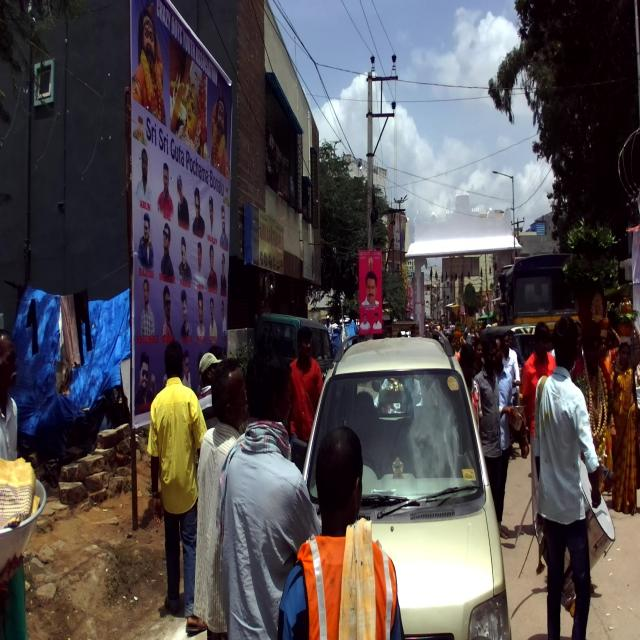Car_Maruti-Suzuki: (292, 327, 510, 639)
